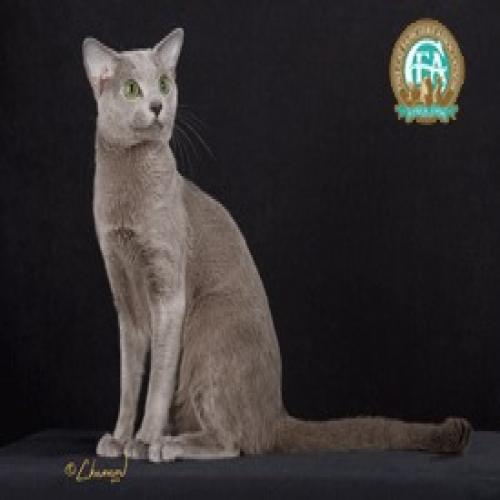rblue: (78, 26, 188, 156)
